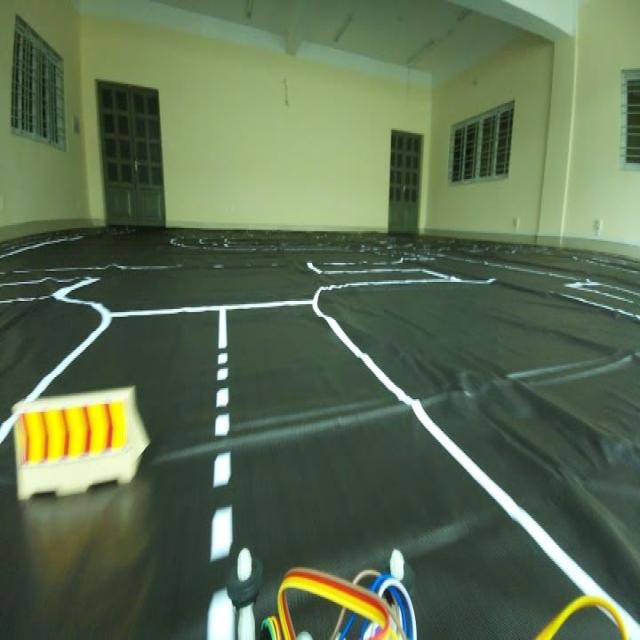roadblock: (12, 383, 153, 487)
